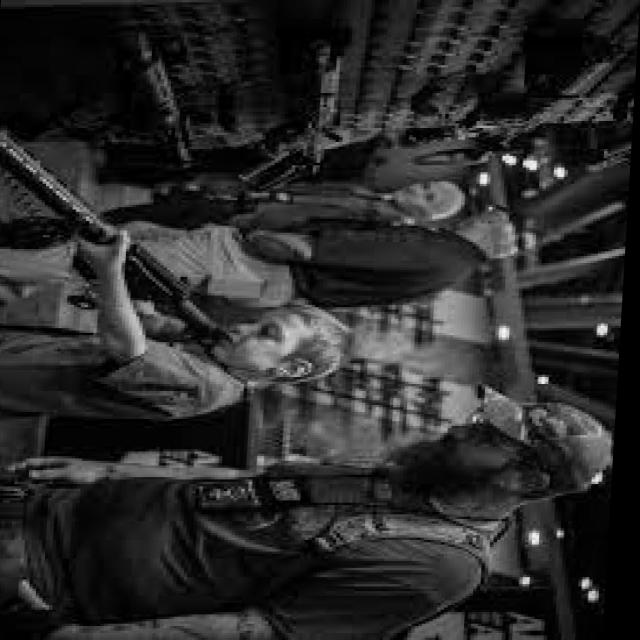rifle: (0, 118, 240, 334), (454, 39, 613, 145), (91, 39, 210, 154), (267, 18, 358, 152)
